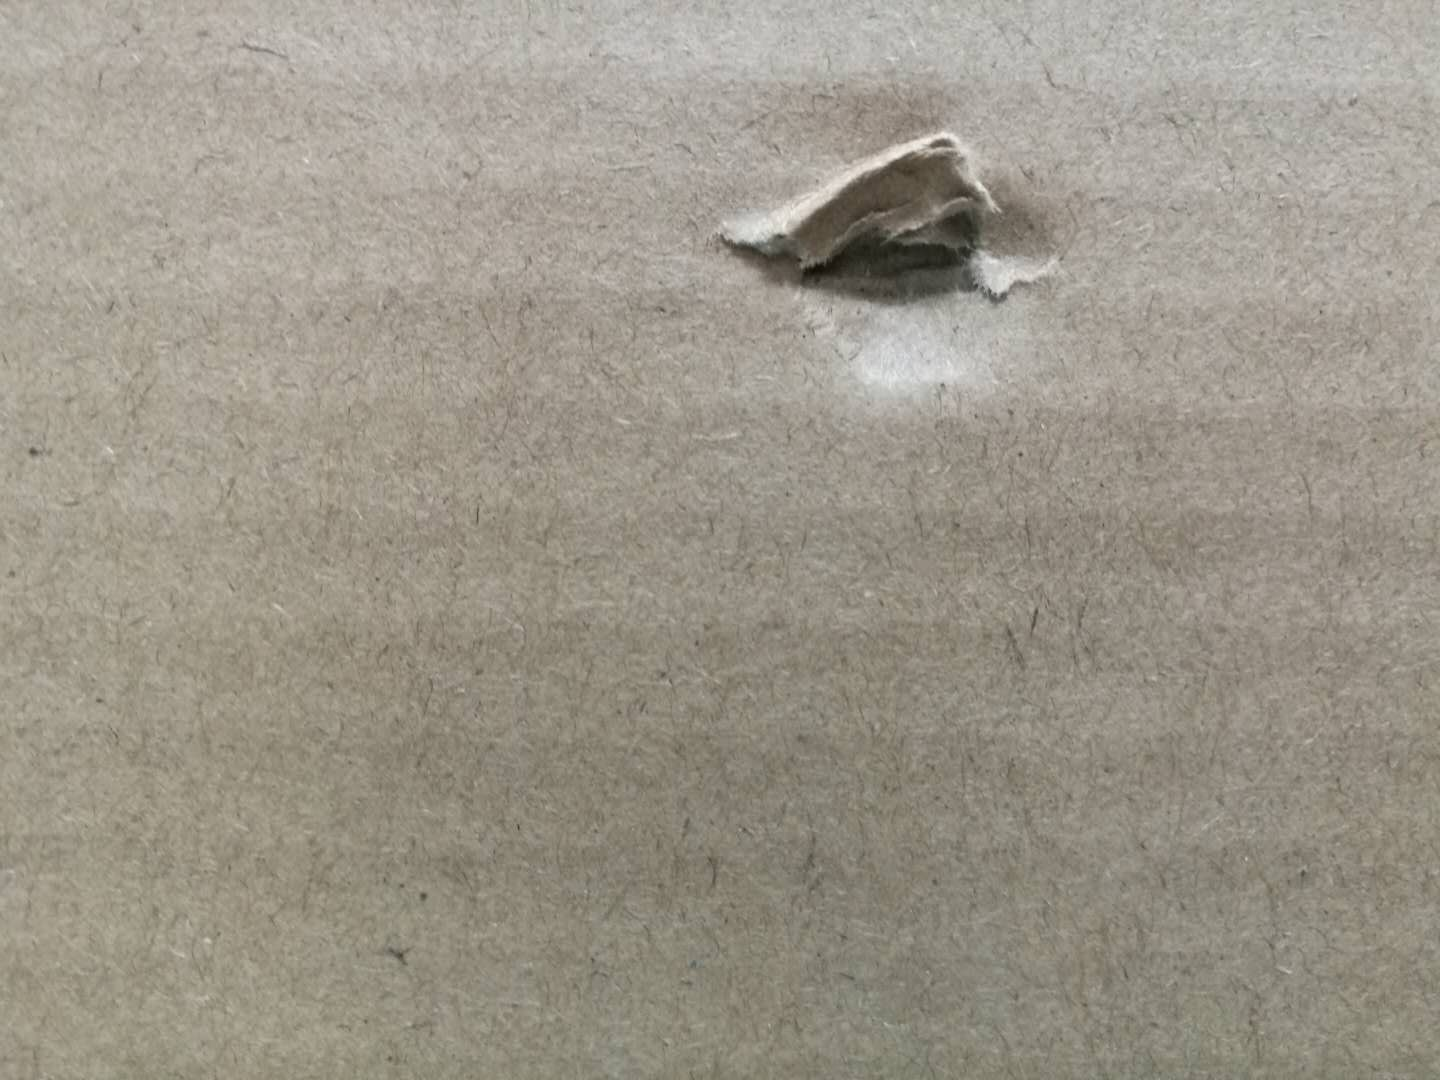defect: (687, 94, 1106, 436)
